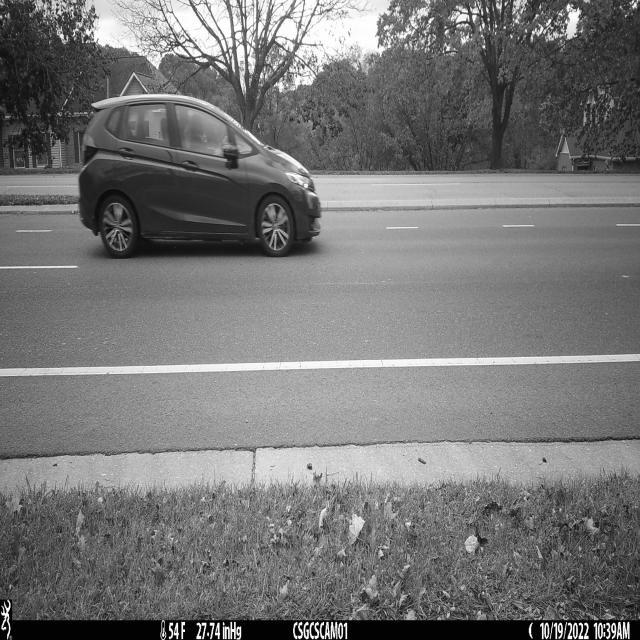Hatchback: (78, 94, 323, 259)
